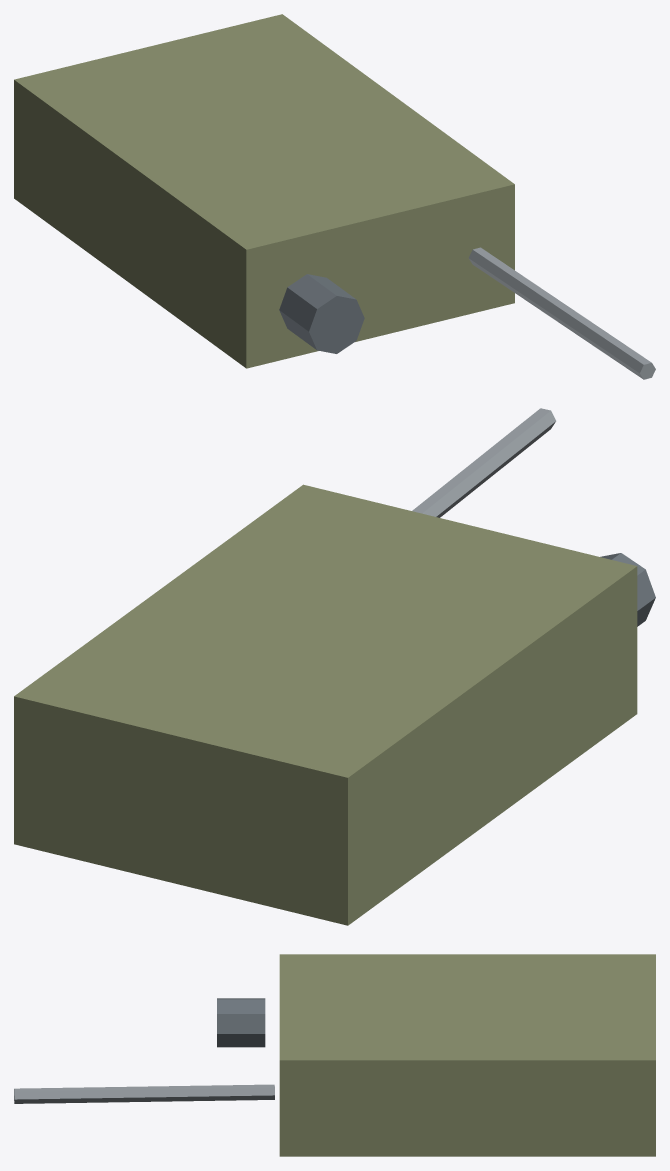
Rendered from radio.glb.
3 renders of one model, top to bottom at view 1: azimuth 30°, elevation 25°; view 2: azimuth 150°, elevation 25°; view 3: azimuth 270°, elevation 25°, orthographic. The views are drawn at different scales.
Parts seen in each view (by area): view 1: 00_radio_body, 09_knob, 08_antenna; view 2: 00_radio_body, 08_antenna, 09_knob; view 3: 00_radio_body, 08_antenna, 09_knob.
Boxes of the visible parts, x1,y1,x2,y2 form: 00_radio_body: (14, 14, 514, 368); 09_knob: (279, 274, 364, 353); 08_antenna: (468, 247, 655, 379); 00_radio_body: (14, 484, 637, 925); 08_antenna: (412, 408, 555, 517); 09_knob: (600, 553, 655, 626); 00_radio_body: (279, 954, 655, 1156); 08_antenna: (14, 1084, 274, 1103); 09_knob: (217, 998, 265, 1047).
Bounding box in the file's own units: 0.26 × 0.121 × 0.6653.
